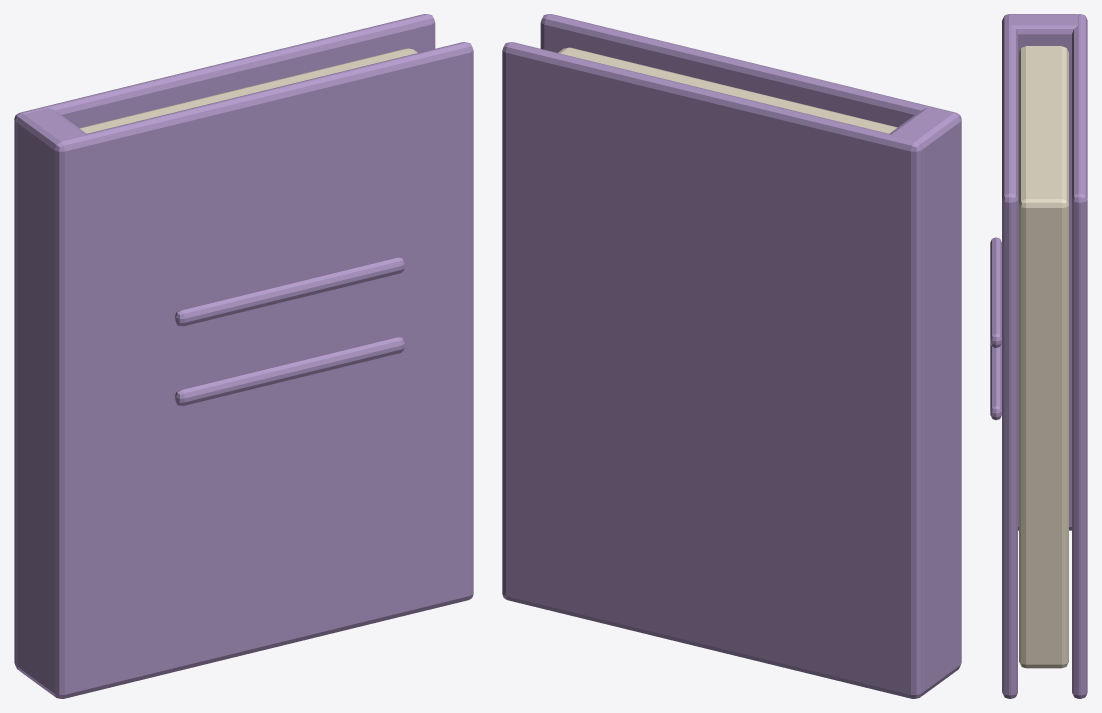
File: book-cover.glb
The picture shows the model from 3 angles, left to right: view 1: azimuth 30°, elevation 25°; view 2: azimuth 150°, elevation 25°; view 3: azimuth 270°, elevation 25°; orthographic projection. The views are drawn at different scales.
Visible parts, largest first — view 1: Book cover.002, Book binding.001, Book pages.001; view 2: Book cover.002, Book binding.001, Book pages.001; view 3: Book pages.001, Book cover.002, Book binding.001.
Part boxes in pixels (bbox=[...]): Book cover.002: bbox=[14, 14, 473, 698]; Book binding.001: bbox=[17, 108, 404, 696]; Book pages.001: bbox=[79, 48, 417, 133]; Book cover.002: bbox=[502, 14, 961, 698]; Book binding.001: bbox=[889, 107, 959, 696]; Book pages.001: bbox=[558, 47, 897, 133]; Book pages.001: bbox=[1019, 46, 1068, 668]; Book cover.002: bbox=[1002, 14, 1087, 698]; Book binding.001: bbox=[990, 14, 1077, 530].
Size of the model in its own units: 0.022 by 0.028 by 0.0049.
